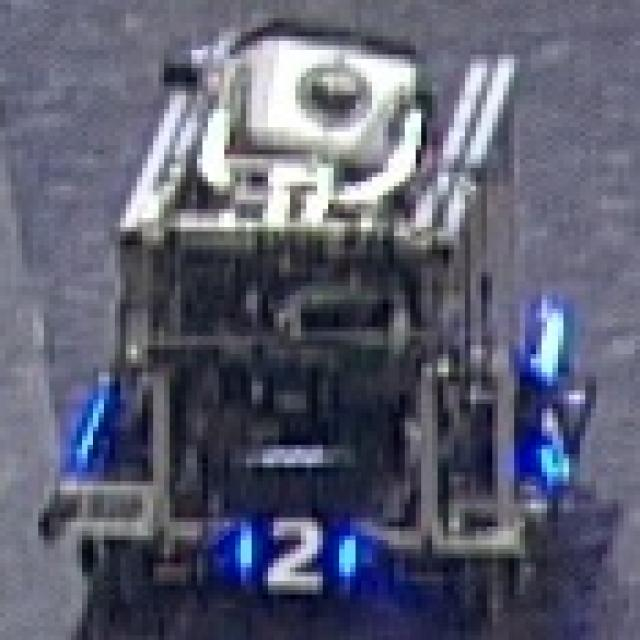B2: (224, 508, 356, 594), (528, 390, 577, 490)
